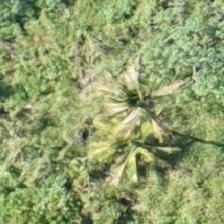coconut_tree: (80, 99, 170, 189), (88, 52, 178, 142)
